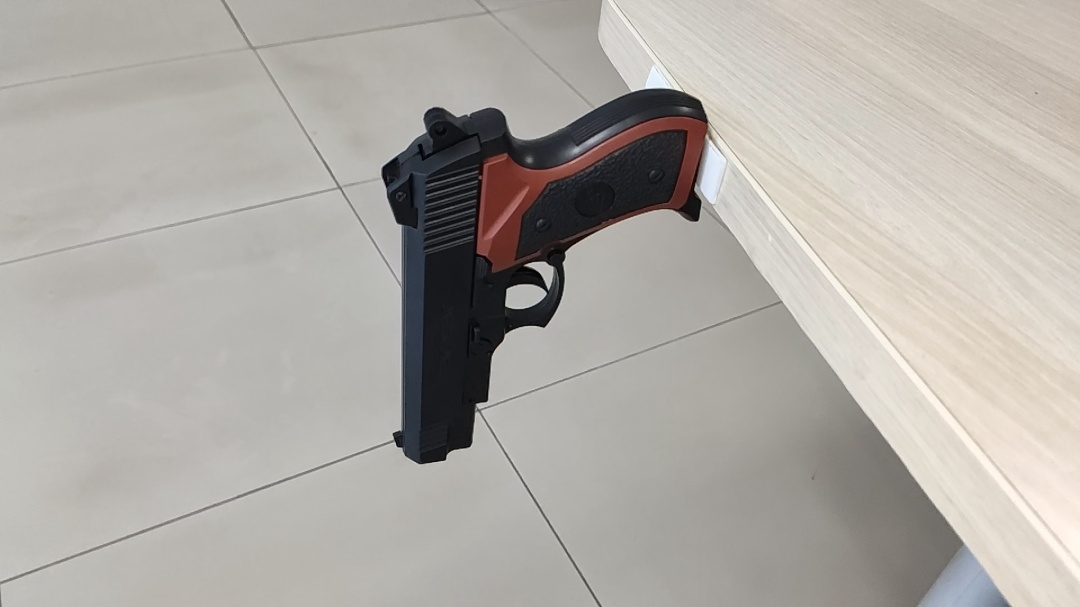gun: (378, 82, 708, 467)
